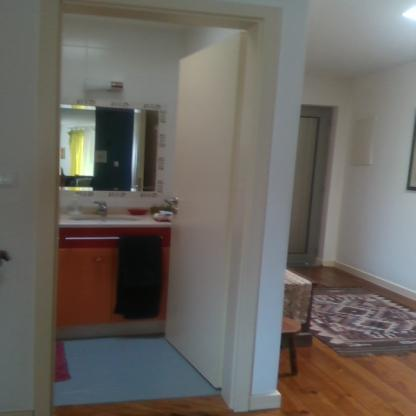open: (29, 10, 270, 399)
